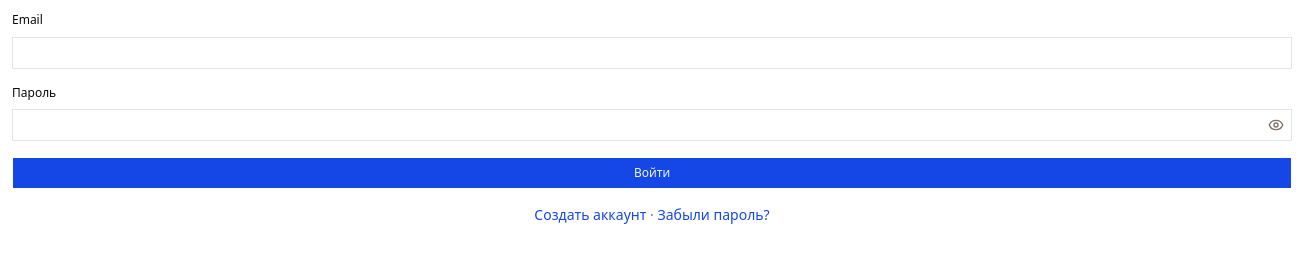
Scenario: LoginForm › rejects an invalid email through the generated schema without HTTP
In the field labelled "Email": (652, 52) [12,36,1292,68], type "not-an-email"
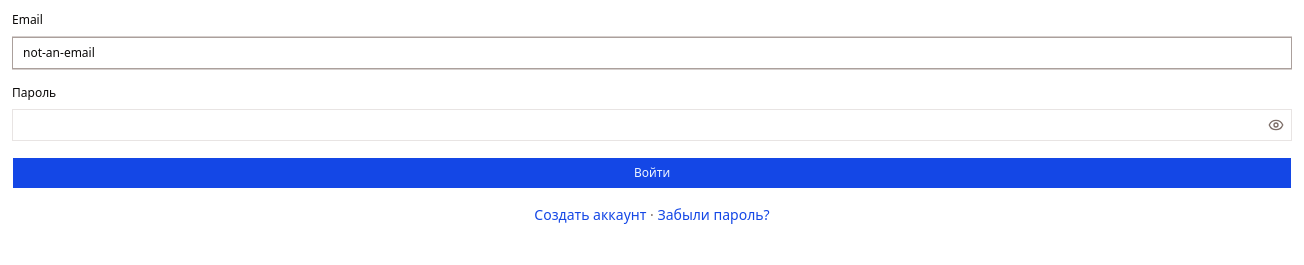
In the password field labelled "Пароль": (638, 125) [13,109,1264,141], type "secret"
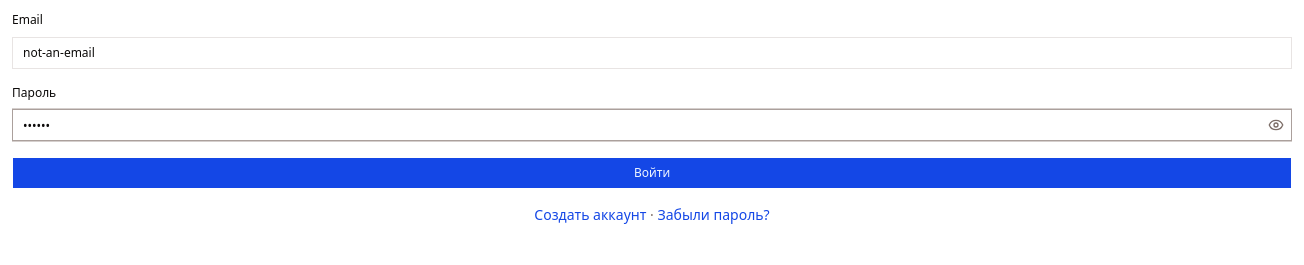
Click the button named "Показать пароль": (1276, 125) [1264,113,1288,137]
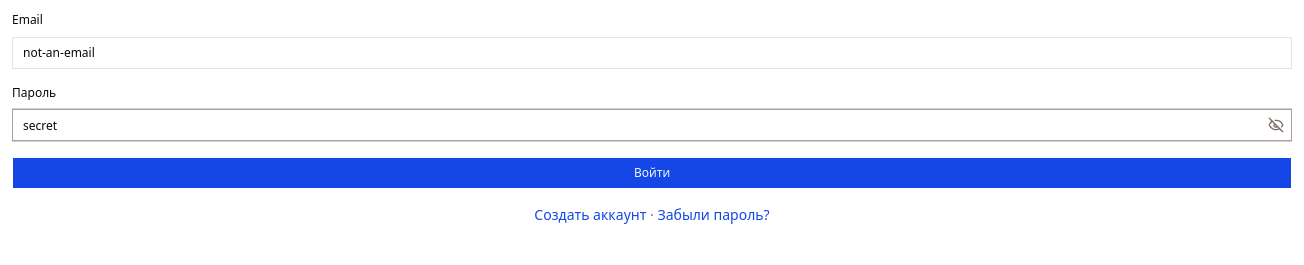
Expected: the field labelled "Пароль" shows its text, [13,109,1264,141]
Click the button named "Войти": (652, 173) [12,157,1292,189]
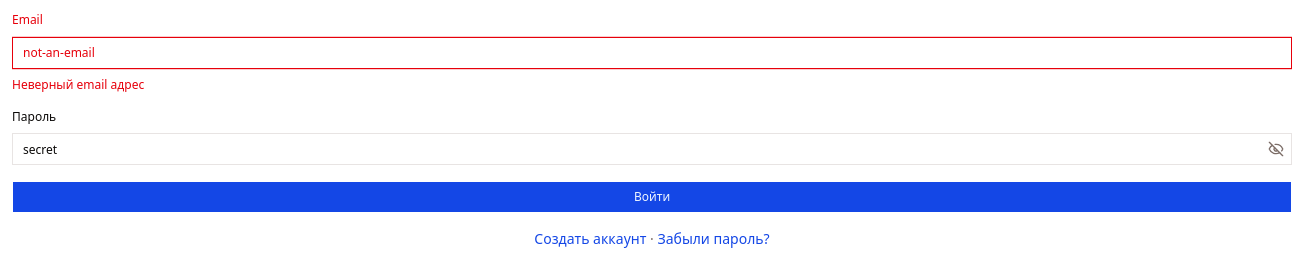
Expected: the text "Неверный email адрес" is shown, [12,76,144,92]
